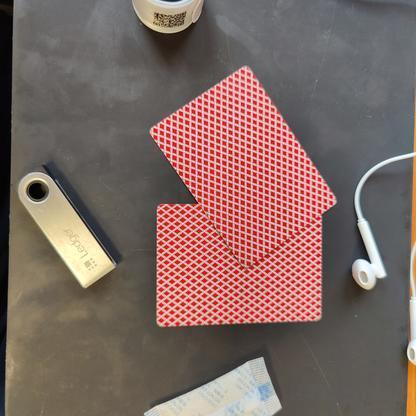card: (148, 63, 345, 270), (152, 198, 328, 330)
